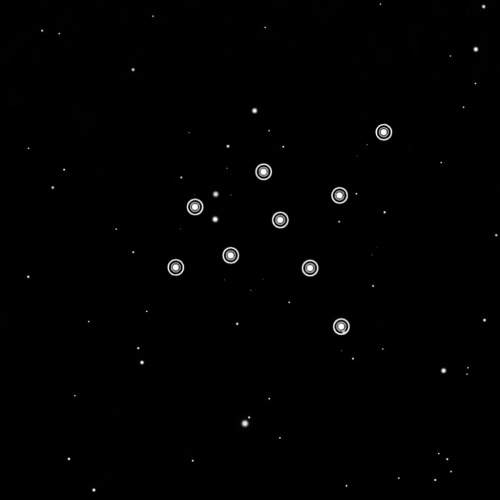cygnus: (162, 118, 395, 341)
